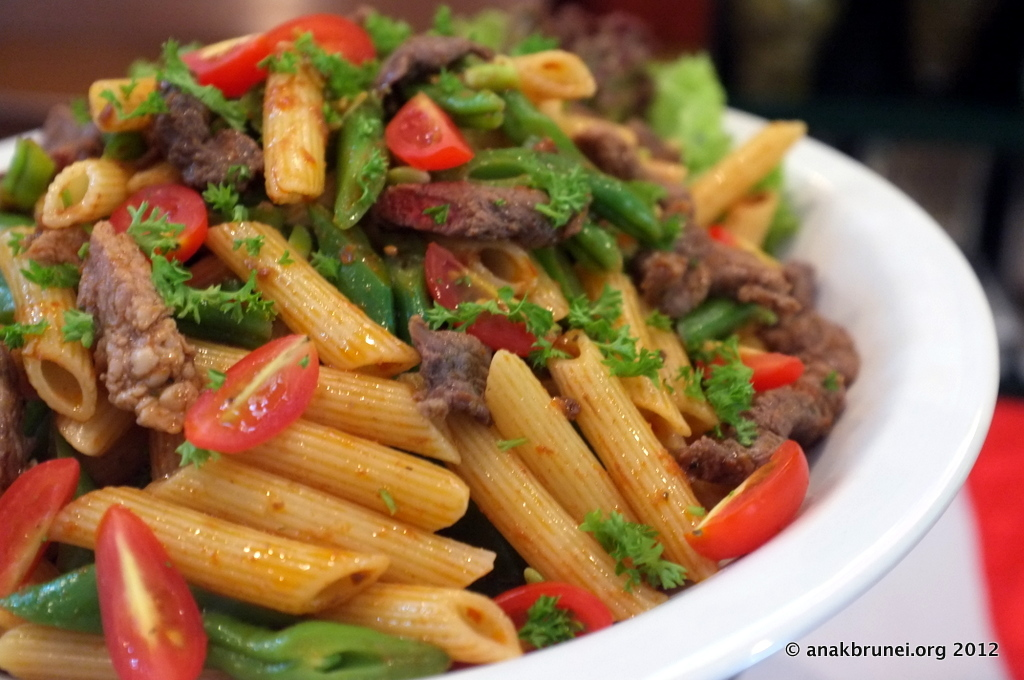pasta: (1, 6, 878, 680)
